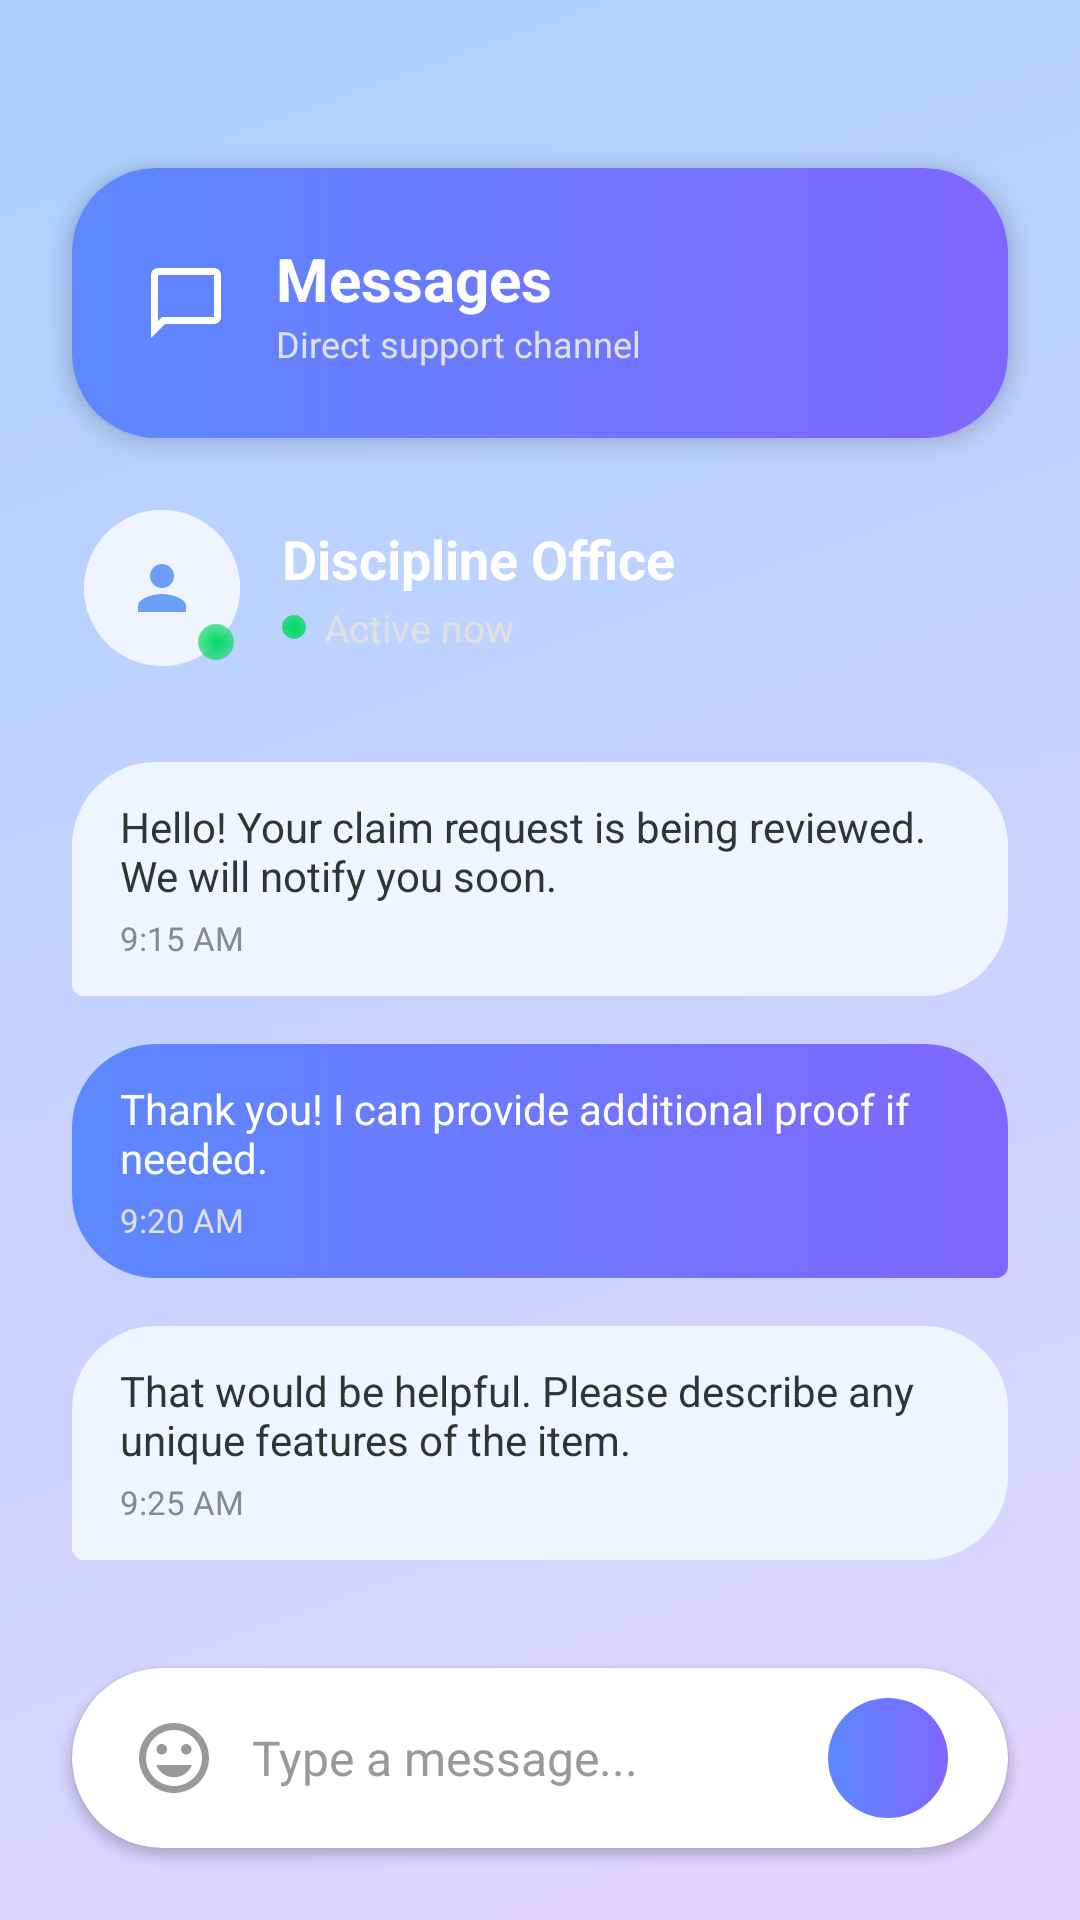

Icon bounding boxes for this 1080 × 1920 phone screenshot, format (x1, y1, x2, y2):
emoji: (139, 1723, 209, 1793)
person: (84, 510, 240, 666)
